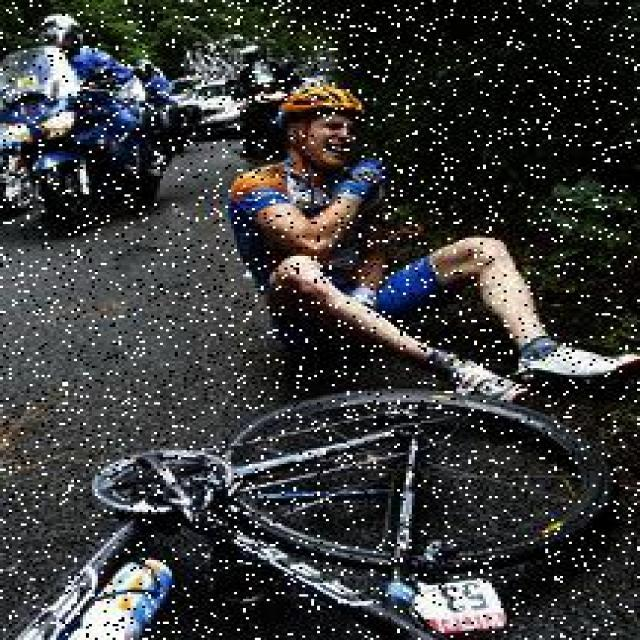fall: (232, 94, 584, 395)
